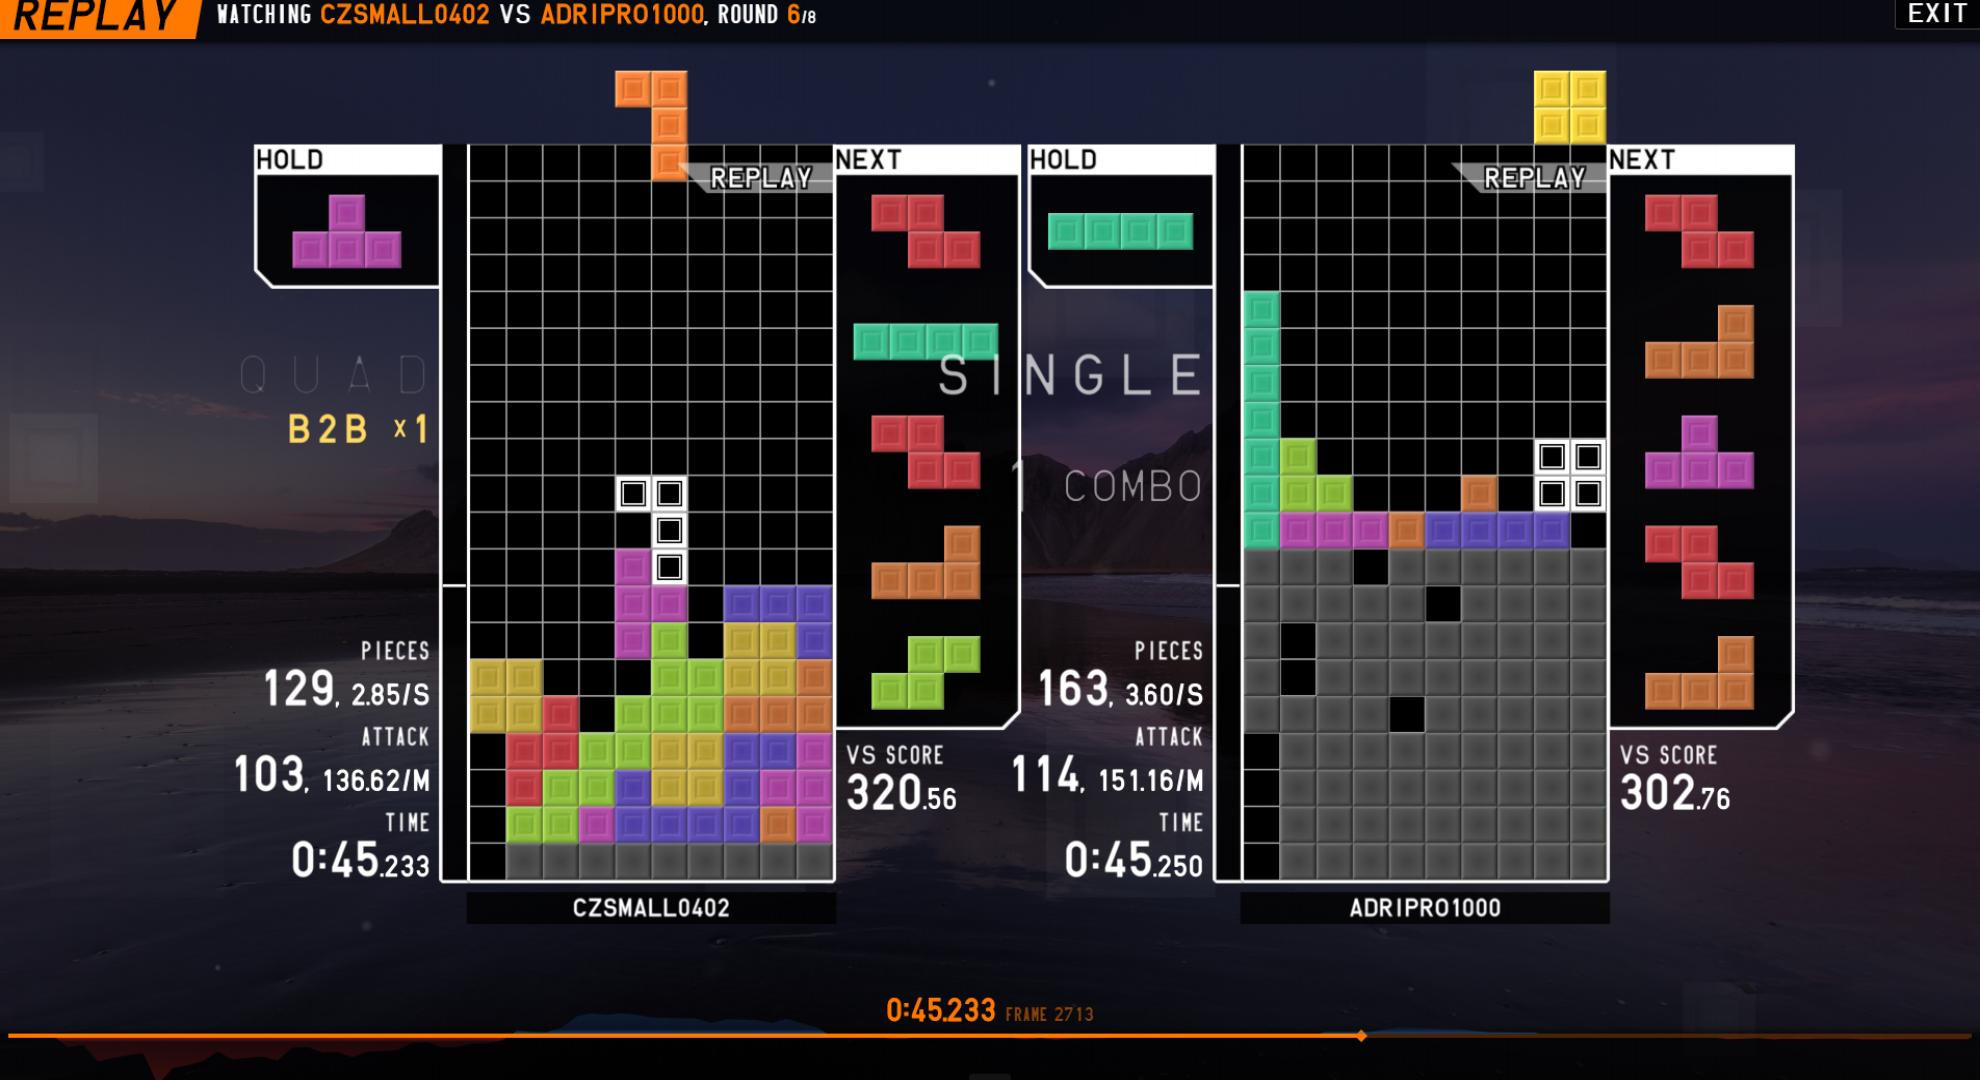tspin: (537, 617, 656, 733)
